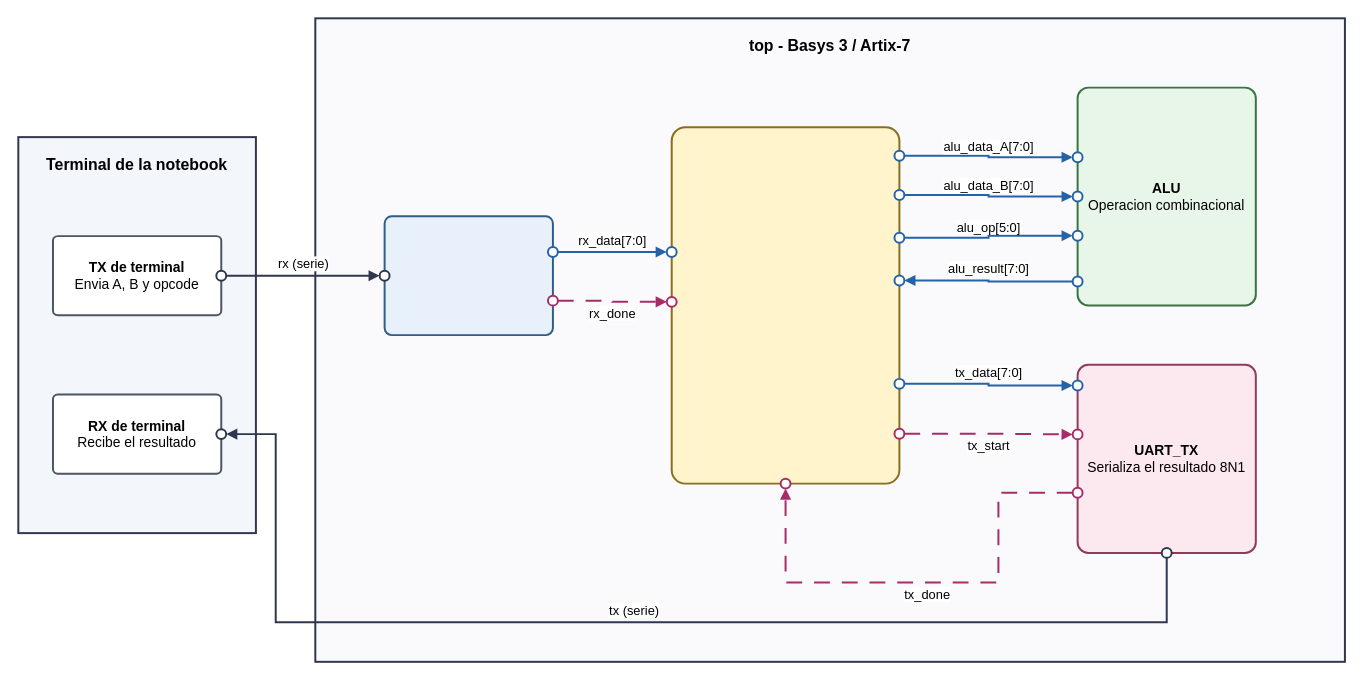
This 1362x679 diagram has some shape labels left out. The centre of each missing label's shape, as x and y in pixels:
"UART_INTERFACE Registra A, B y opcode Controla la respuesta" goes at point 785,305.
"UART_RX Deserializa una trama 8N1" goes at point 468,275.
